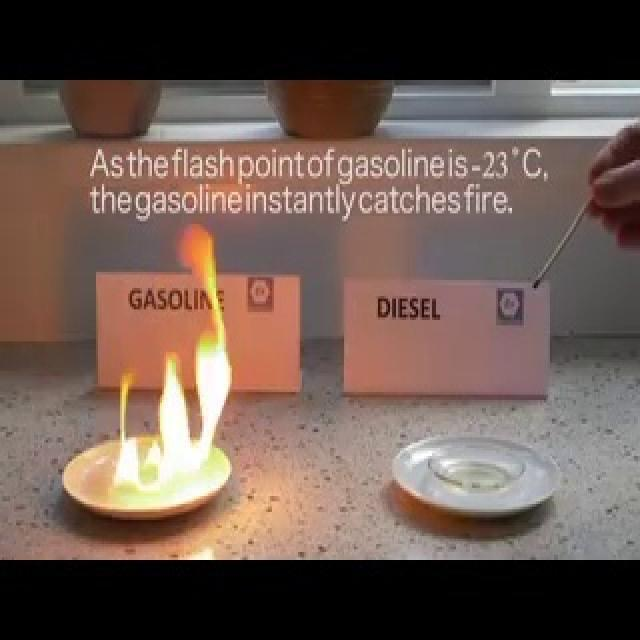fire: (113, 296, 249, 499)
